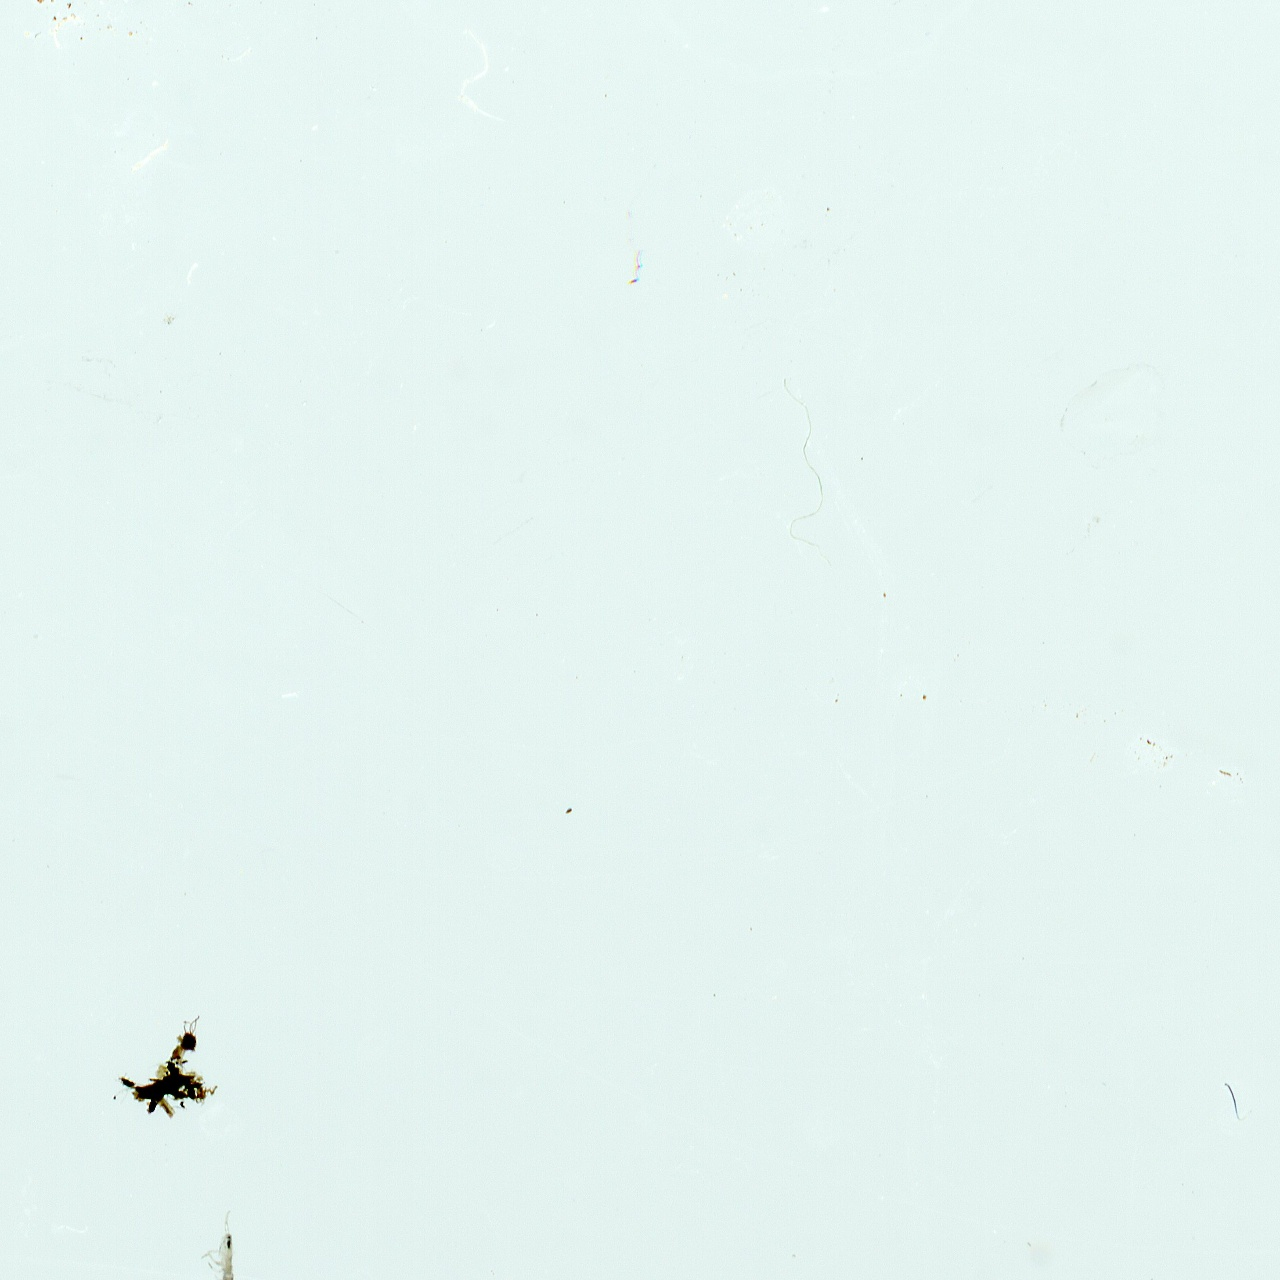arthropod: (197, 1205, 239, 1280)
